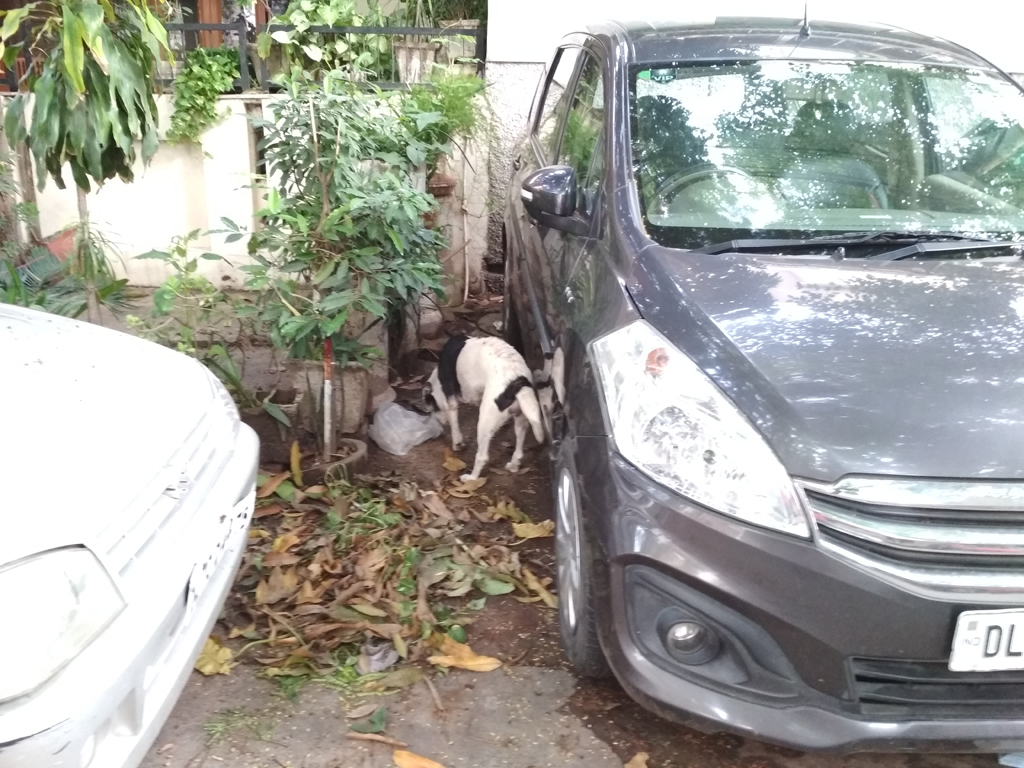dog: (423, 335, 544, 480)
